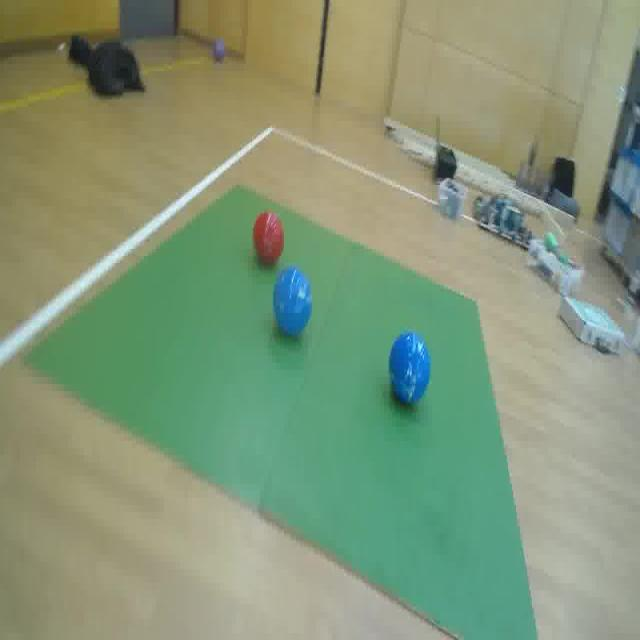blue_ball: (388, 327, 432, 405), (271, 263, 313, 336)
red_ball: (251, 205, 288, 268)
